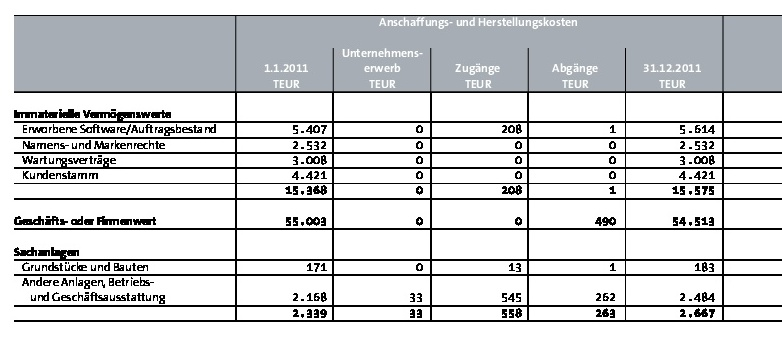table: (0, 0, 782, 348)
